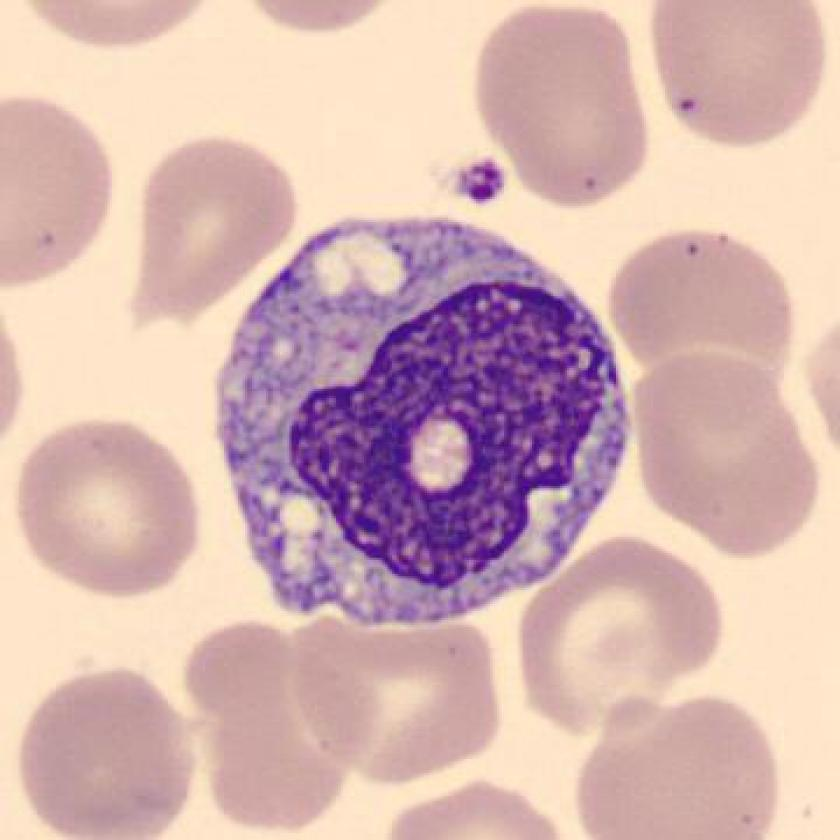monocyte: (195, 193, 645, 642)
